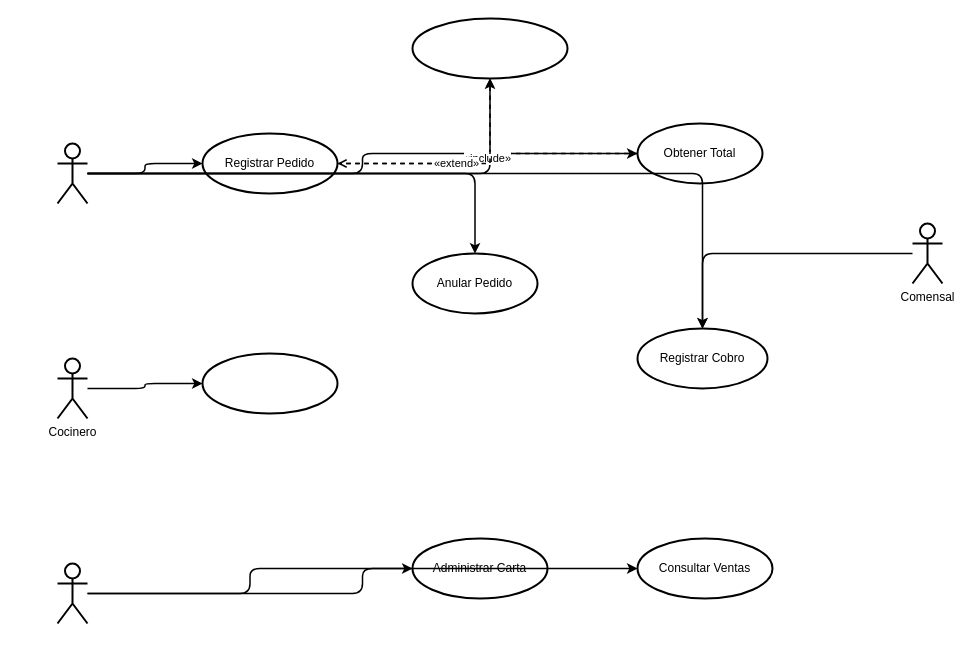
Image size: 971x661. Some labels were removed from this diagram. Here are the shapes that lost their labels. From the top down, the centre of each, then its label:
the point at 489,48: Verificar Disponibilidad
the point at 72,173: Personal de Servicio
the point at 269,383: Preparar Comida
the point at 72,593: Encargado
